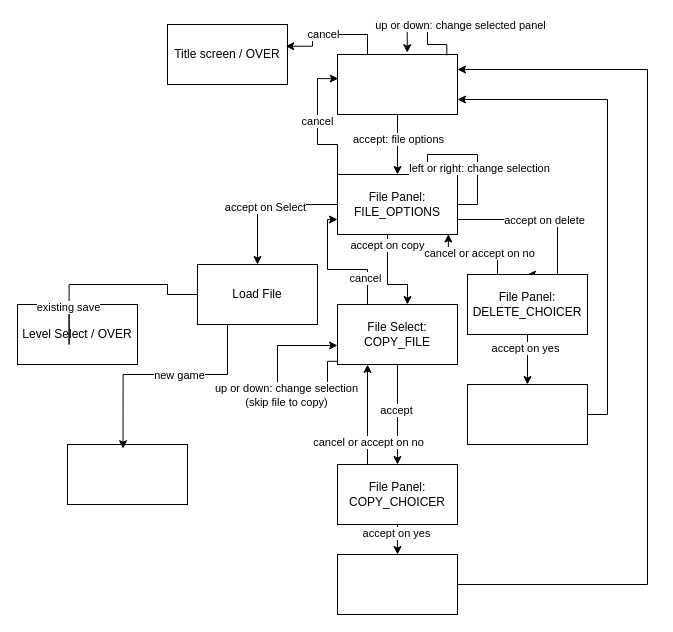
This 673x632 diagram has some shape labels left out. Each missing label, with the centre of its shape:
Copy first file to second / SHOW_INFO: pixel 397 584
Delete file / SHOW_INFO: pixel 527 414
File Select: SELECT_FILE: pixel 397 84
GameScene / OVER: pixel 127 474
